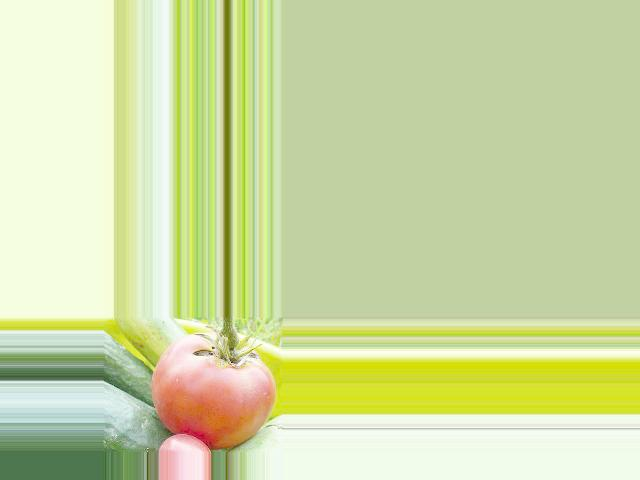tomato: (152, 334, 275, 450)
